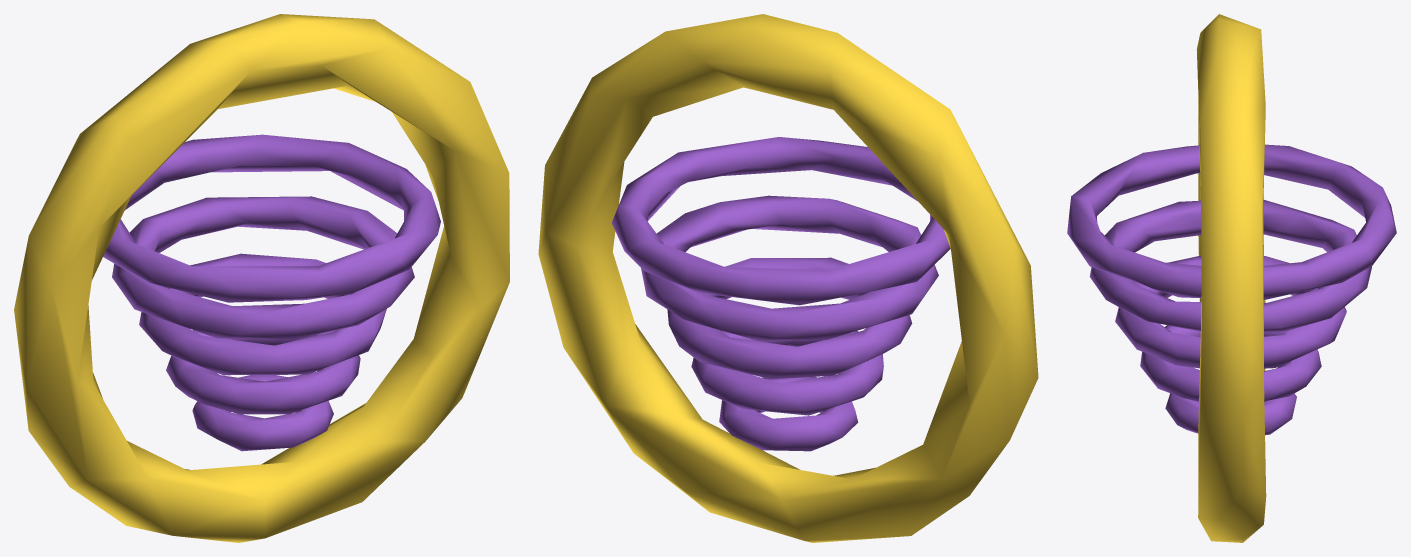
File: Pickup_whirlpool_LOD2.glb
3 views of the same model, side by side, from view 1: azimuth 30°, elevation 25°; view 2: azimuth 150°, elevation 25°; view 3: azimuth 270°, elevation 25° (orthographic). The views are drawn at different scales.
Parts seen in each view (by area): view 1: Pickup ring.003, Whirlpool.004, Whirlpool.003, Whirlpool.002, Whirlpool.001, Whirlpool; view 2: Pickup ring.003, Whirlpool.004, Whirlpool.003, Whirlpool.002, Whirlpool.001, Whirlpool; view 3: Pickup ring.003, Whirlpool.004, Whirlpool.003, Whirlpool.002, Whirlpool.001, Whirlpool.
Part boxes in pixels (x1,y1,x2,y2): Pickup ring.003: (14, 14, 509, 542); Whirlpool.004: (103, 134, 440, 302); Whirlpool.003: (112, 196, 414, 339); Whirlpool.002: (139, 253, 386, 375); Whirlpool.001: (166, 330, 360, 414); Whirlpool: (192, 375, 333, 451); Pickup ring.003: (538, 14, 1038, 542); Whirlpool.004: (612, 137, 950, 305); Whirlpool.003: (641, 195, 938, 341); Whirlpool.002: (667, 257, 912, 379); Whirlpool.001: (691, 330, 883, 415); Whirlpool: (719, 376, 858, 451); Pickup ring.003: (1196, 14, 1266, 542); Whirlpool.004: (1067, 144, 1396, 299); Whirlpool.003: (1089, 200, 1371, 332); Whirlpool.002: (1115, 256, 1346, 368); Whirlpool.001: (1140, 325, 1321, 401); Whirlpool: (1165, 393, 1296, 435).
Size of the model in its own units: 0.845 by 0.8465 by 0.5255.
